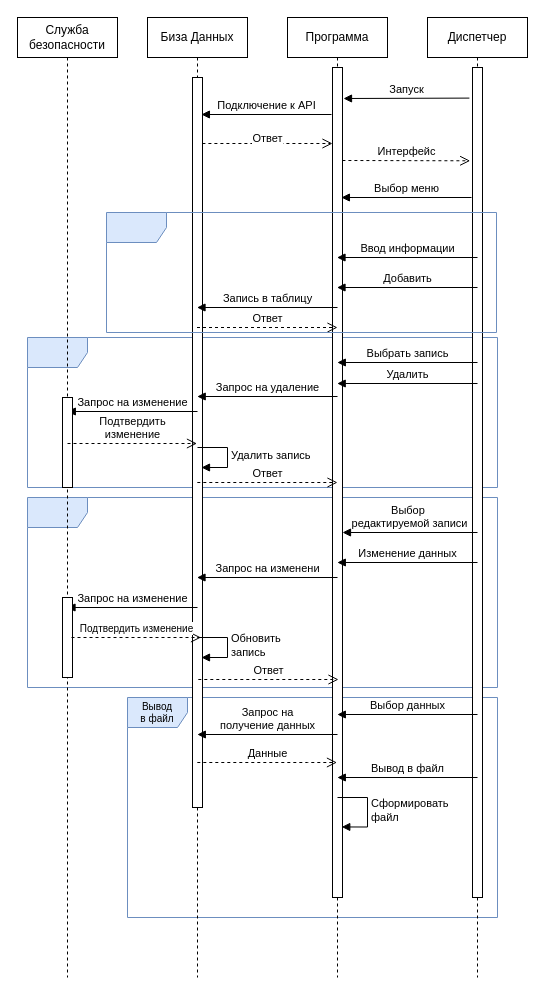
Image size: 545x995. Some labels were removed from this diagram. Here are the shapes that lost their labels. From the top down, the centre of each, then its label:
At (x=301, y=272): "Добавление данных".
At (x=262, y=412): "Удаление данных".
At (x=262, y=592): "Редактирование данных".
